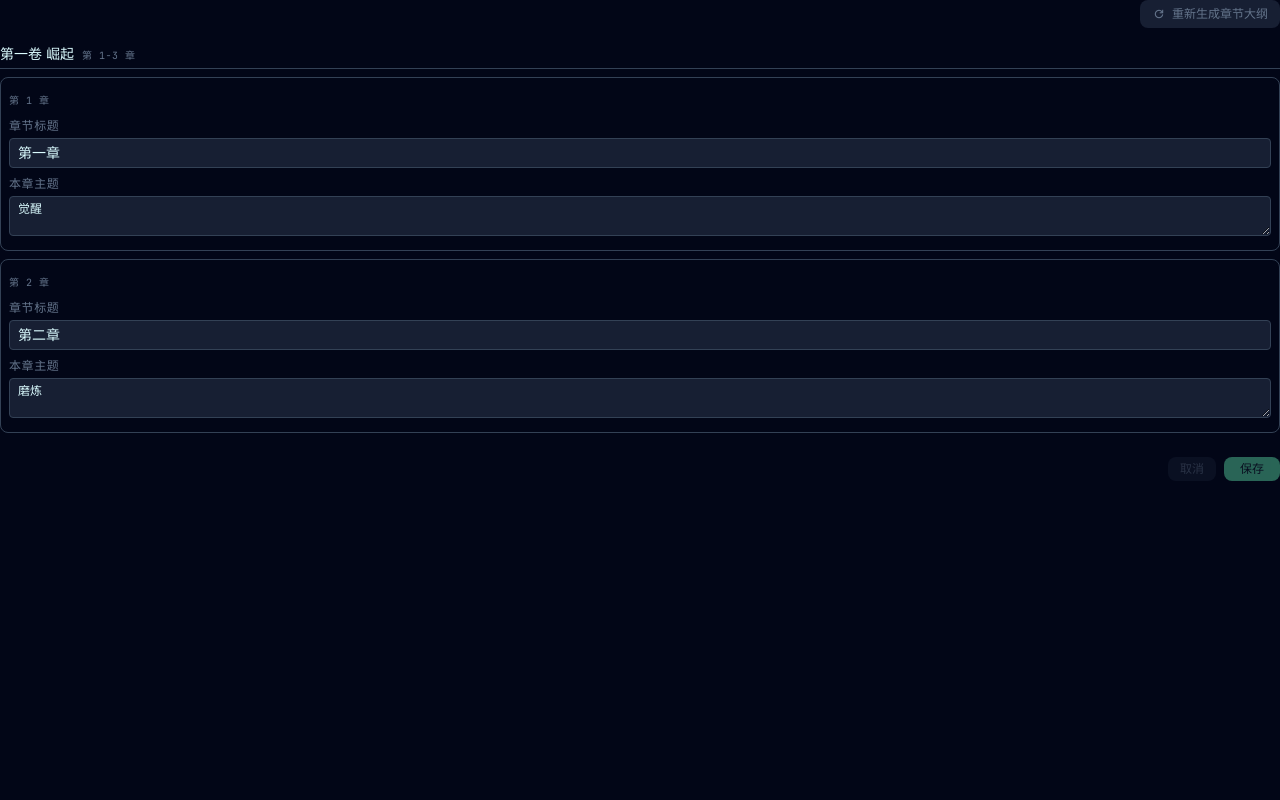
Test case: ChapterOutlineEditor range regenerate › clicking the button opens ChapterRangeRegenerateModal
Click the button with test id "chapter-outline-range-regenerate": [1210, 14] box [1140,0,1279,28]
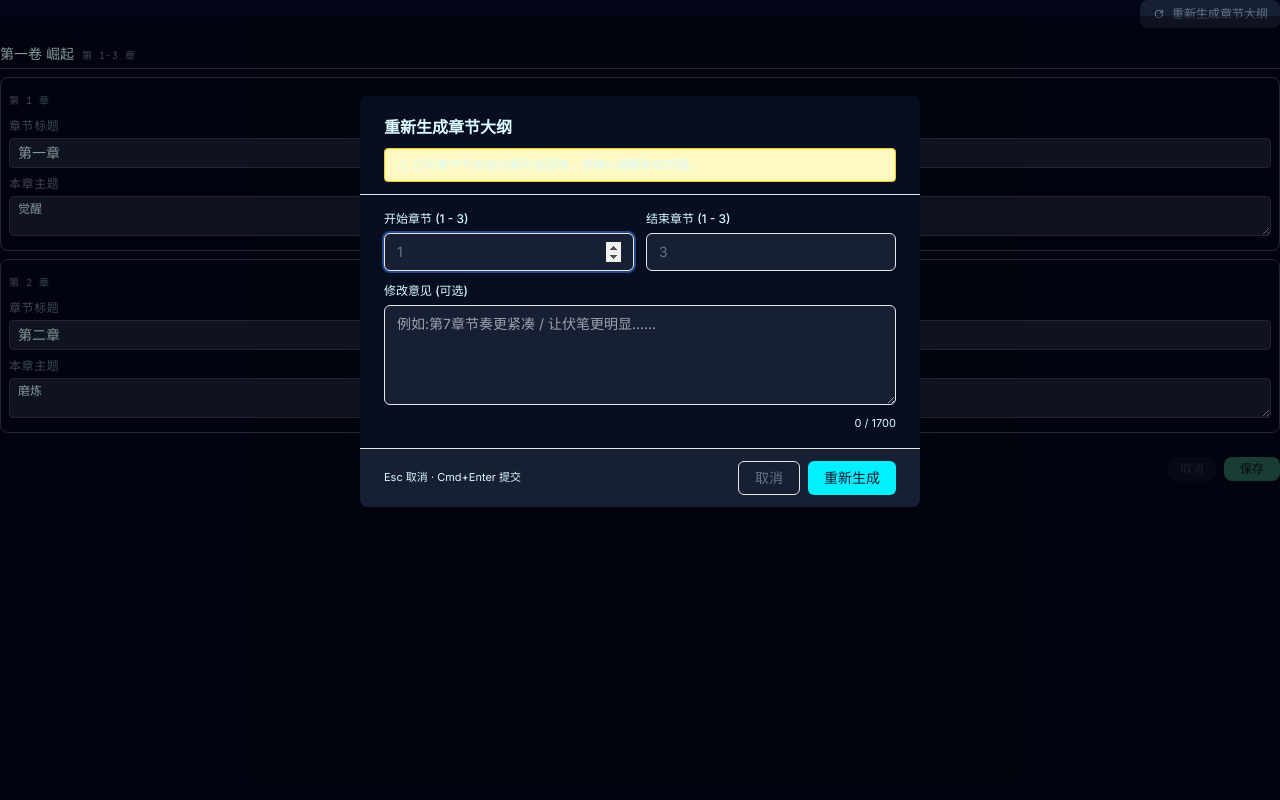
Now the element with test id "chapter-range-modal" is shown, box [360,96,920,506]
Now the number field with test id "chapter-range-end" holds "3", box [646,233,896,271]
